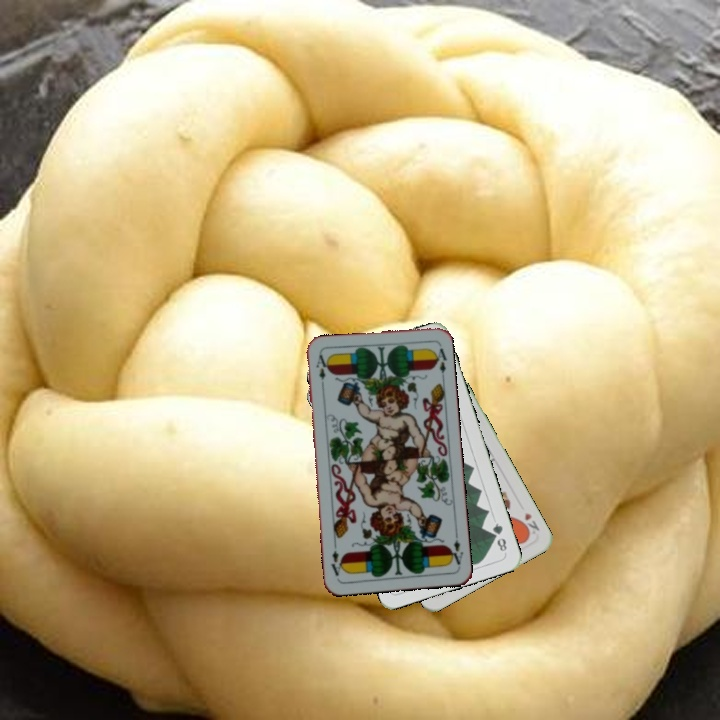EA: (445, 528, 466, 569), (312, 351, 329, 391)
G8: (488, 519, 509, 556)
HK: (516, 509, 542, 538)
